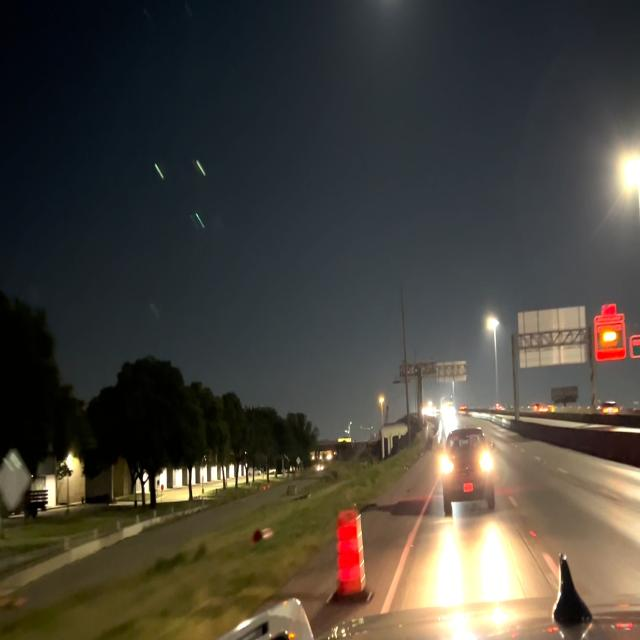back-of-sign: (515, 304, 591, 372), (0, 442, 31, 515), (434, 359, 470, 389)
